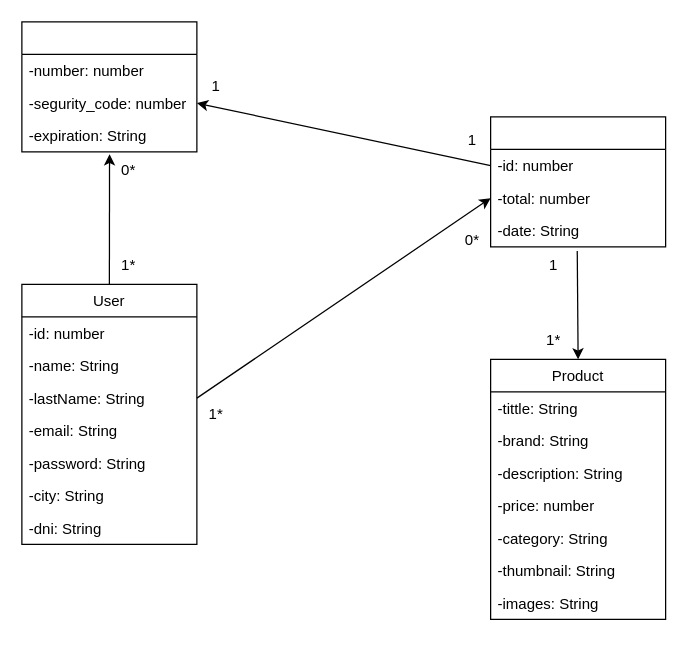
Some shapes in this 688 by 645 pixel diagram are drawn without their labels. Each missing label, with the box of its shape:
Card: (21, 21, 197, 152)
Cart: (489, 116, 666, 247)
